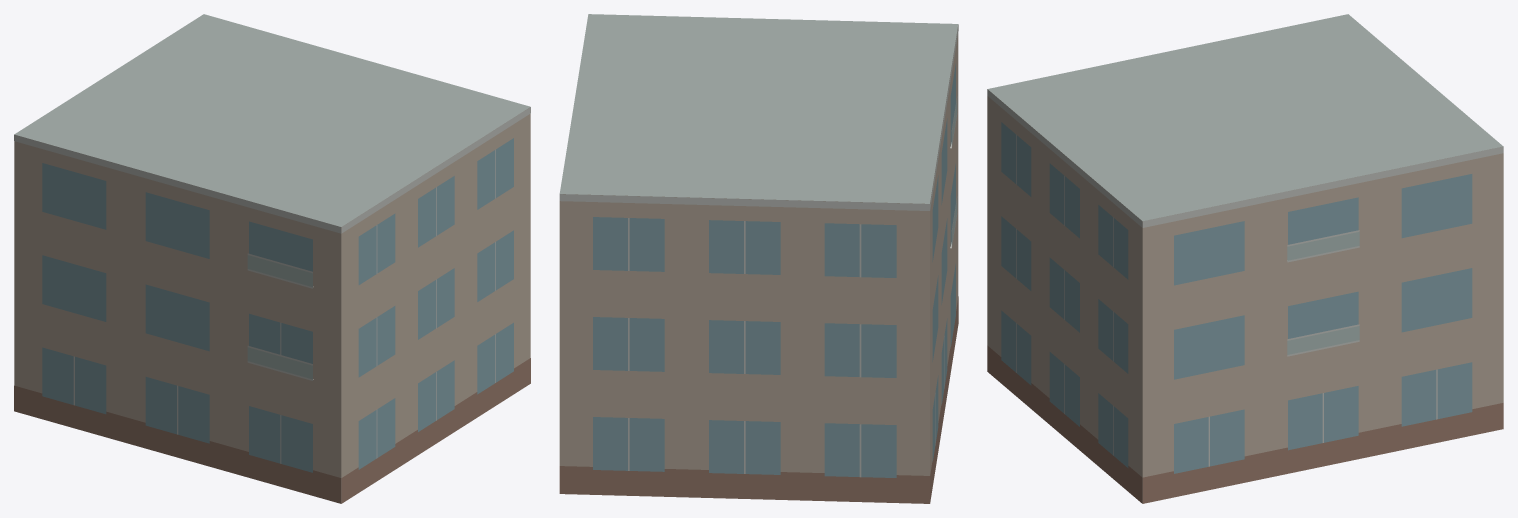
The model's file is survey-upis-32863896.glb.
3 views of the same model, side by side, from view 1: azimuth 30°, elevation 25°; view 2: azimuth 150°, elevation 25°; view 3: azimuth 270°, elevation 25° (orthographic). The views are drawn at different scales.
Visible parts, largest first — view 1: survey-upis-32863896.tmp; view 2: survey-upis-32863896.tmp; view 3: survey-upis-32863896.tmp.
Part boxes in pixels (left/top/right/bottom): survey-upis-32863896.tmp: left=14, top=14, right=530, bottom=503; survey-upis-32863896.tmp: left=559, top=14, right=958, bottom=503; survey-upis-32863896.tmp: left=987, top=14, right=1503, bottom=503.
Bounding box in the file's own units: 16.05 × 10.2 × 16.89.
